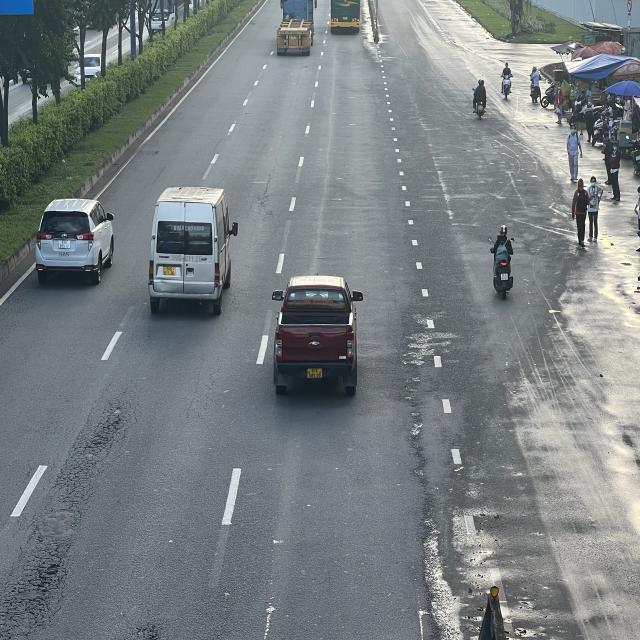car: (270, 274, 362, 393), (33, 196, 114, 279)
coach: (329, 0, 360, 35)
container: (276, 0, 316, 53)
van: (151, 187, 239, 311)
